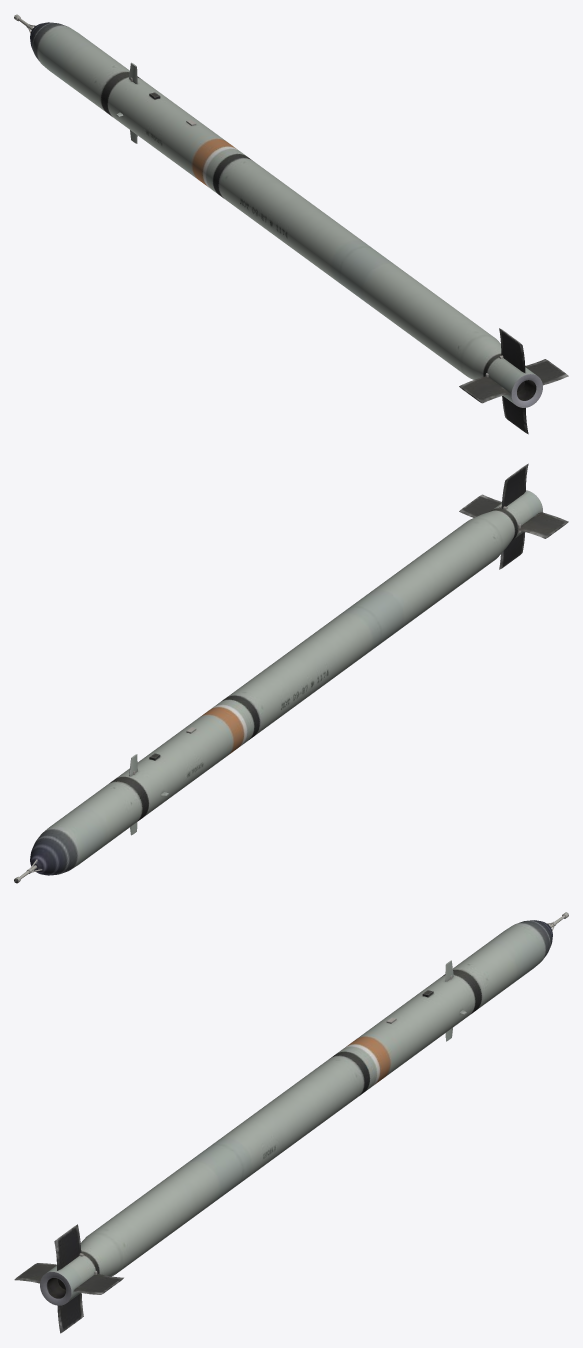
File: msl_igla.glb
3 views of the same model, one above another, from view 1: azimuth 30°, elevation 25°; view 2: azimuth 150°, elevation 25°; view 3: azimuth 330°, elevation 25° (orthographic).
Parts seen in each view (by area): view 1: ms_body, ms_fins; view 2: ms_body, ms_fins; view 3: ms_body, ms_fins.
Boxes of the visible parts, x1,y1,x2,y2 form: ms_body: (14,14,542,407); ms_fins: (116,62,568,434); ms_body: (14,490,542,883); ms_fins: (129,463,568,835); ms_body: (40,912,568,1305); ms_fins: (14,960,466,1333).
Size of the model in its own units: 0.151 by 0.151 by 1.55.
1 material, 1 textured.
